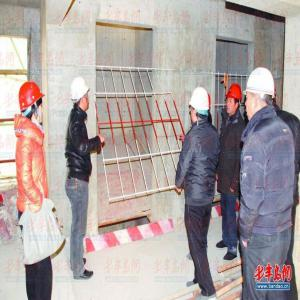red: (19, 82, 45, 126), (225, 83, 244, 118)
white: (244, 65, 276, 122), (189, 87, 211, 126), (71, 76, 91, 113)
